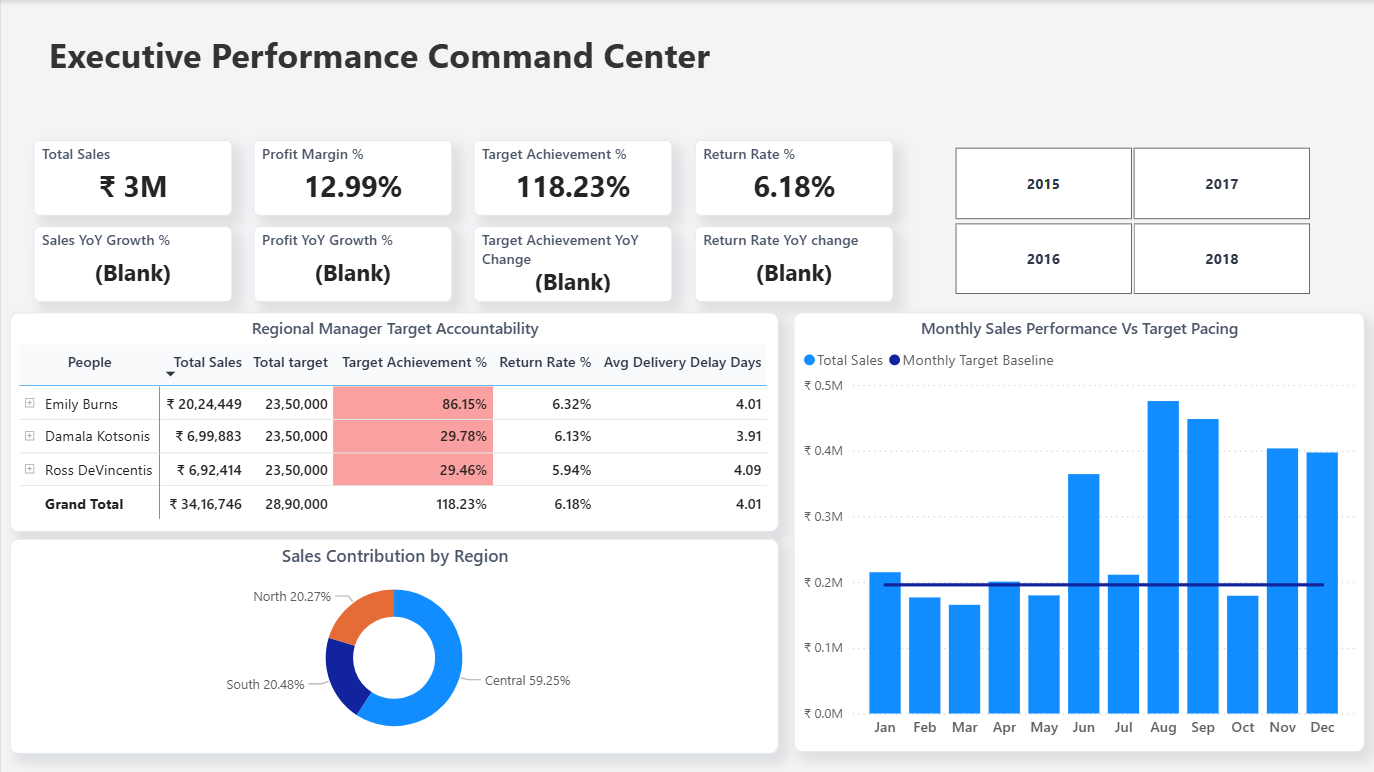

The page's visual inventory and layout, read from the dashboard file:
{"tool":"powerbi","page":{"name":"Executive Performance Command Center","canvas":[1280,720],"ordinal":0},"visuals":[{"type":"card","title":"Total Sales","fields":{"Values":["All_Measures.Total Sales"]},"box":[30,130,185,70],"z":0},{"type":"card","title":"Sales YoY Growth %","fields":{"Values":["All_Measures.Sales YoY Growth %"]},"box":[30,210,185,70],"z":1000},{"type":"card","title":"Profit Margin %","fields":{"Values":["All_Measures.Profit Margin%"]},"box":[235,130,185,70],"z":2000},{"type":"card","title":"Profit YoY Growth %","fields":{"Values":["All_Measures.Profit YoY Growth %"]},"box":[235,210,185,70],"z":3000},{"type":"card","title":"Target Achievement %","fields":{"Values":["All_Measures.Target Achievement %"]},"box":[440,130,185,70],"z":4000},{"type":"card","title":"Target Achievement YoY Change","fields":{"Values":["All_Measures.Target Achievement YoY Change"]},"box":[440,210,185,70],"z":5000},{"type":"card","title":"Return Rate %","fields":{"Values":["All_Measures.Return Rate %"]},"box":[645,130,185,70],"z":6000},{"type":"card","title":"Return Rate YoY change","fields":{"Values":["All_Measures.Return Rate YoY change"]},"box":[645,210,185,70],"z":7000},{"type":"textbox","box":[40,25,840,80],"z":8000},{"type":"pivotTable","title":"Regional Manager Target Accountability","fields":{"Rows":["People.People","Fact_Sales.Category"],"Values":["All_Measures.Total Sales","All_Measures.Total target","All_Measures.Target Achievement %","All_Measures.Return Rate %","All_Measures.Avg Delivery Delay Days"]},"box":[8.4,290.8,715.4,203.9],"z":9000},{"type":"lineClusteredColumnComboChart","title":"Monthly Sales Performance Vs Target Pacing","fields":{"Y":["All_Measures.Total Sales"],"Y2":["All_Measures.Monthly Target Baseline"],"Category":["Calendar.Short Month"]},"box":[737.1,290.8,530.8,409],"z":10000},{"type":"slicer","fields":{"Values":["Calendar.Year"]},"box":[861.1,130.3,380.2,150.5],"z":11000},{"type":"donutChart","title":"Sales Contribution by Region","fields":{"Category":["People.Region"],"Y":["All_Measures.Total Sales"]},"box":[8.4,500.7,715.4,200.3],"z":11001}]}

Visuals, with their boxes in screenshot pixels (x1, y1, x2, y2), scaled from the page's 1280x720 canvas onto the 1374x772 screenshot:
"Total Sales" card: [32, 139, 231, 214]
"Sales YoY Growth %" card: [32, 225, 231, 300]
"Profit Margin %" card: [252, 139, 451, 214]
"Profit YoY Growth %" card: [252, 225, 451, 300]
"Target Achievement %" card: [472, 139, 671, 214]
"Target Achievement YoY Change" card: [472, 225, 671, 300]
"Return Rate %" card: [692, 139, 891, 214]
"Return Rate YoY change" card: [692, 225, 891, 300]
textbox: [43, 27, 945, 113]
"Regional Manager Target Accountability" pivotTable: [9, 312, 777, 530]
"Monthly Sales Performance Vs Target Pacing" lineClusteredColumnComboChart: [791, 312, 1361, 750]
slicer - Calendar.Year: [924, 140, 1332, 301]
"Sales Contribution by Region" donutChart: [9, 537, 777, 752]
